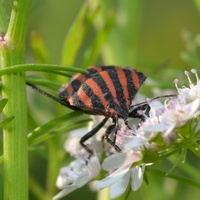insect: (26, 66, 149, 155)
